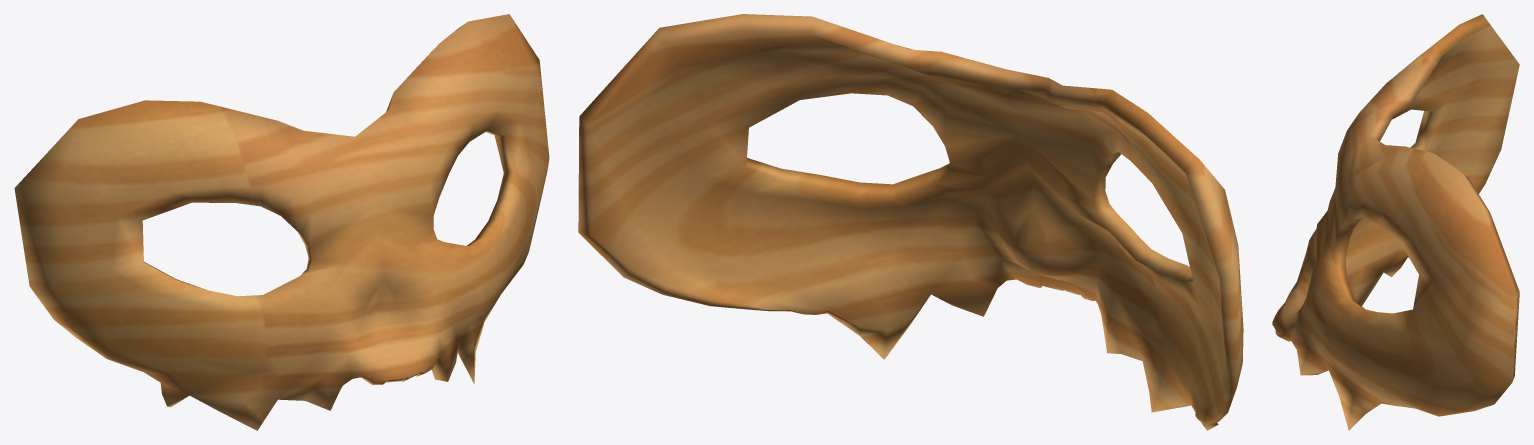
File: Skull_Mask.001.fbx
The picture shows the model from 3 angles, left to right: view 1: azimuth 30°, elevation 25°; view 2: azimuth 150°, elevation 25°; view 3: azimuth 270°, elevation 25°; orthographic projection. The views are drawn at different scales.
Visible parts, largest first — view 1: Skull_Mask.001; view 2: Skull_Mask.001; view 3: Skull_Mask.001.
Part boxes in pixels (x1,y1,x2,y2): Skull_Mask.001: [14, 14, 549, 430]; Skull_Mask.001: [578, 14, 1243, 430]; Skull_Mask.001: [1272, 14, 1519, 430].
Bounding box in the file's own units: 50.36 × 28.01 × 22.12.
